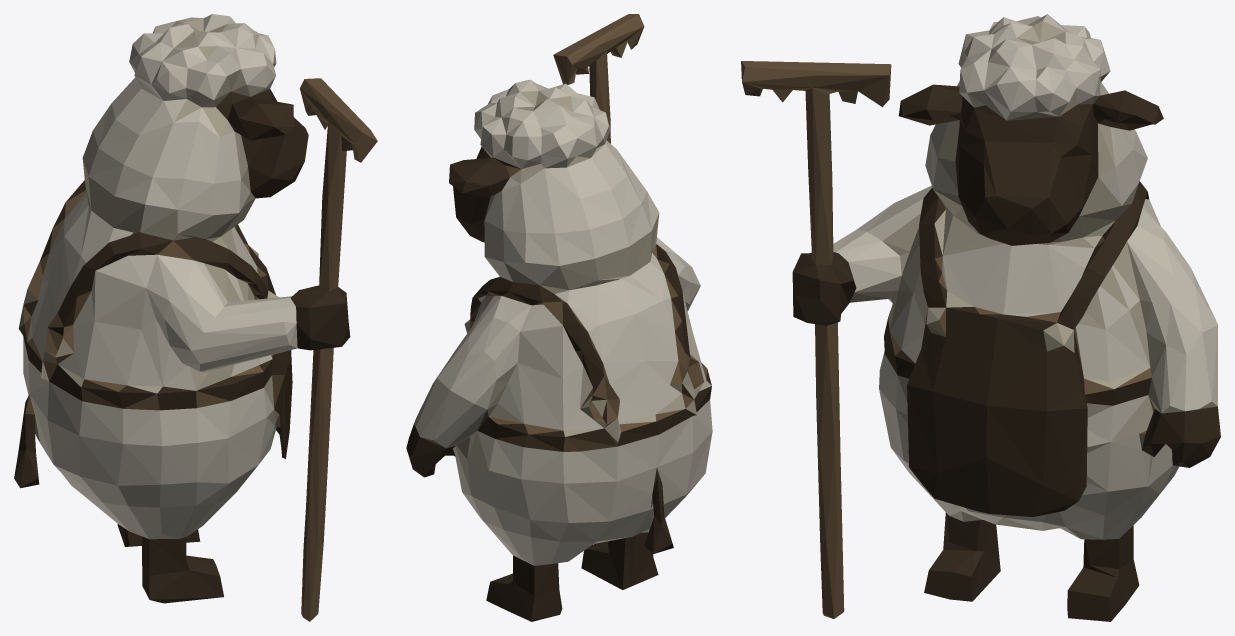
3 views of the same model, side by side, from view 1: azimuth 30°, elevation 25°; view 2: azimuth 150°, elevation 25°; view 3: azimuth 270°, elevation 25° (orthographic). The views are drawn at different scales.
Visible parts, largest first — view 1: lion-1500; view 2: lion-1500; view 3: lion-1500.
Boxes of the visible parts, <box> form: lion-1500: <box>14,14,377,621</box>; lion-1500: <box>406,14,712,621</box>; lion-1500: <box>741,14,1220,621</box>.
Bounding box in the file's own units: 0.5103 × 1 × 0.7465.
